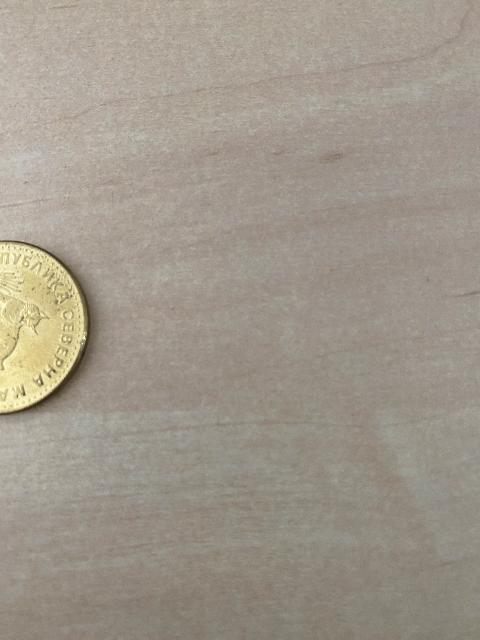5_coin: (0, 242, 88, 413)
